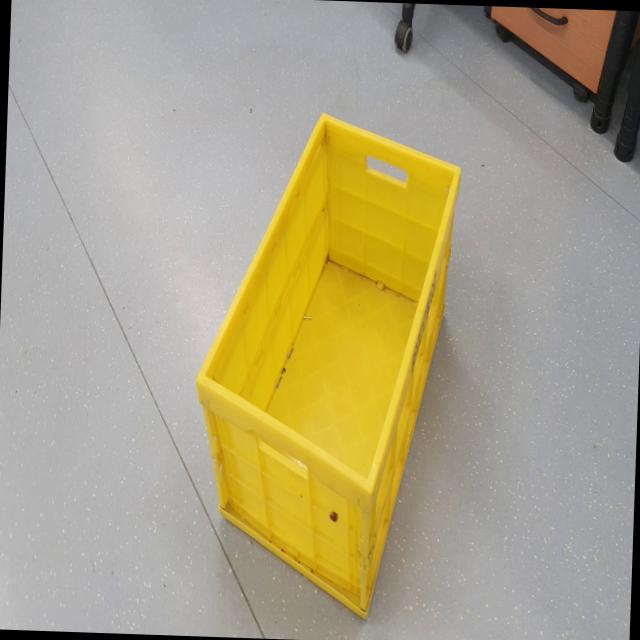box: (188, 88, 467, 631)
